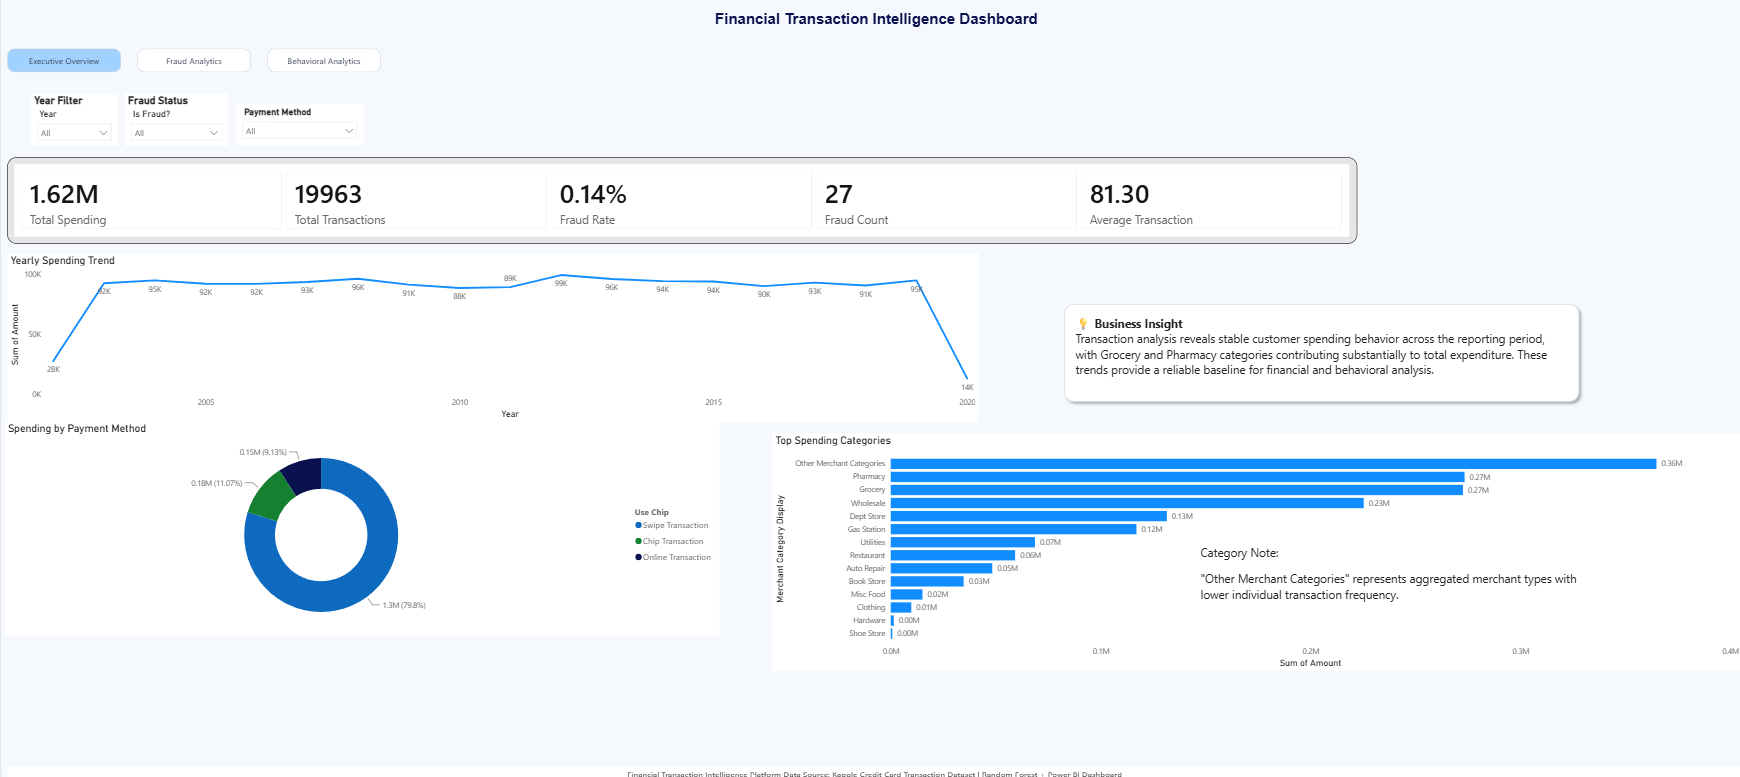

The dashboard page shown, as its layout file describes it:
{"tool":"powerbi","page":{"name":"Executive Overview","canvas":[1600,1400],"ordinal":0},"visuals":[{"type":"textbox","box":[9.4,0,1590.5,70.4],"z":0},{"type":"cardVisual","fields":{"Data":["_Measures.Total Spending","_Measures.Total Transactions","_Measures.Fraud Rate","_Measures.Fraud Count","_Measures.Average Transaction"]},"box":[10,258.6,1574.3,221.4],"z":1000},{"type":"lineChart","title":"Yearly Spending Trend","fields":{"Category":["cleaned_transactions.Year"],"Y":["Sum(cleaned_transactions.Amount)"]},"box":[20,600,1548,270],"z":2000},{"type":"donutChart","title":"Spending by Payment Method","fields":{"Category":["cleaned_transactions.Use Chip"],"Y":["Sum(cleaned_transactions.Amount)"]},"box":[20,870,718,390],"z":3000},{"type":"barChart","title":"Top Spending Categories","fields":{"Y":["Sum(cleaned_transactions.Amount)"],"Category":["cleaned_transactions.Merchant Category Display"]},"box":[748,870,804,390],"z":4000},{"type":"slicer","title":"Year Filter","fields":{"Values":["cleaned_transactions.Year"]},"box":[47.1,155.7,138.6,84.3],"z":5000},{"type":"slicer","title":"Fraud Status","fields":{"Values":["cleaned_transactions.Is Fraud?"]},"box":[198.6,155.7,165.7,84.3],"z":6000},{"type":"slicer","fields":{"Values":["cleaned_transactions.Use Chip"]},"box":[376.2,172.5,203.8,67.5],"z":7000},{"type":"pageNavigator","box":[10,84.3,600,38.6],"z":8000},{"type":"textbox","box":[10,1366,1574,34],"z":8001},{"type":"shape","box":[10,482.9,1574.3,101.4],"z":8002},{"type":"textbox","box":[31.4,500,1520,58.6],"z":8003},{"type":"textbox","box":[1150,1116,382,88],"z":8004}]}

Visuals, with their boxes on the page's 1600x1400 design canvas (x1, y1, x2, y2). These are canvas units, not pixel positions in the 1740x777 screenshot, which may show the page scaled, cropped or inside an application window:
textbox: crop(9, 0, 1600, 70)
cardVisual - _Measures.Total Spending x _Measures.Total Transactions: crop(10, 259, 1584, 480)
"Yearly Spending Trend" lineChart: crop(20, 600, 1568, 870)
"Spending by Payment Method" donutChart: crop(20, 870, 738, 1260)
"Top Spending Categories" barChart: crop(748, 870, 1552, 1260)
"Year Filter" slicer: crop(47, 156, 186, 240)
"Fraud Status" slicer: crop(199, 156, 364, 240)
slicer - cleaned_transactions.Use Chip: crop(376, 172, 580, 240)
pageNavigator: crop(10, 84, 610, 123)
textbox: crop(10, 1366, 1584, 1400)
shape: crop(10, 483, 1584, 584)
textbox: crop(31, 500, 1551, 559)
textbox: crop(1150, 1116, 1532, 1204)
